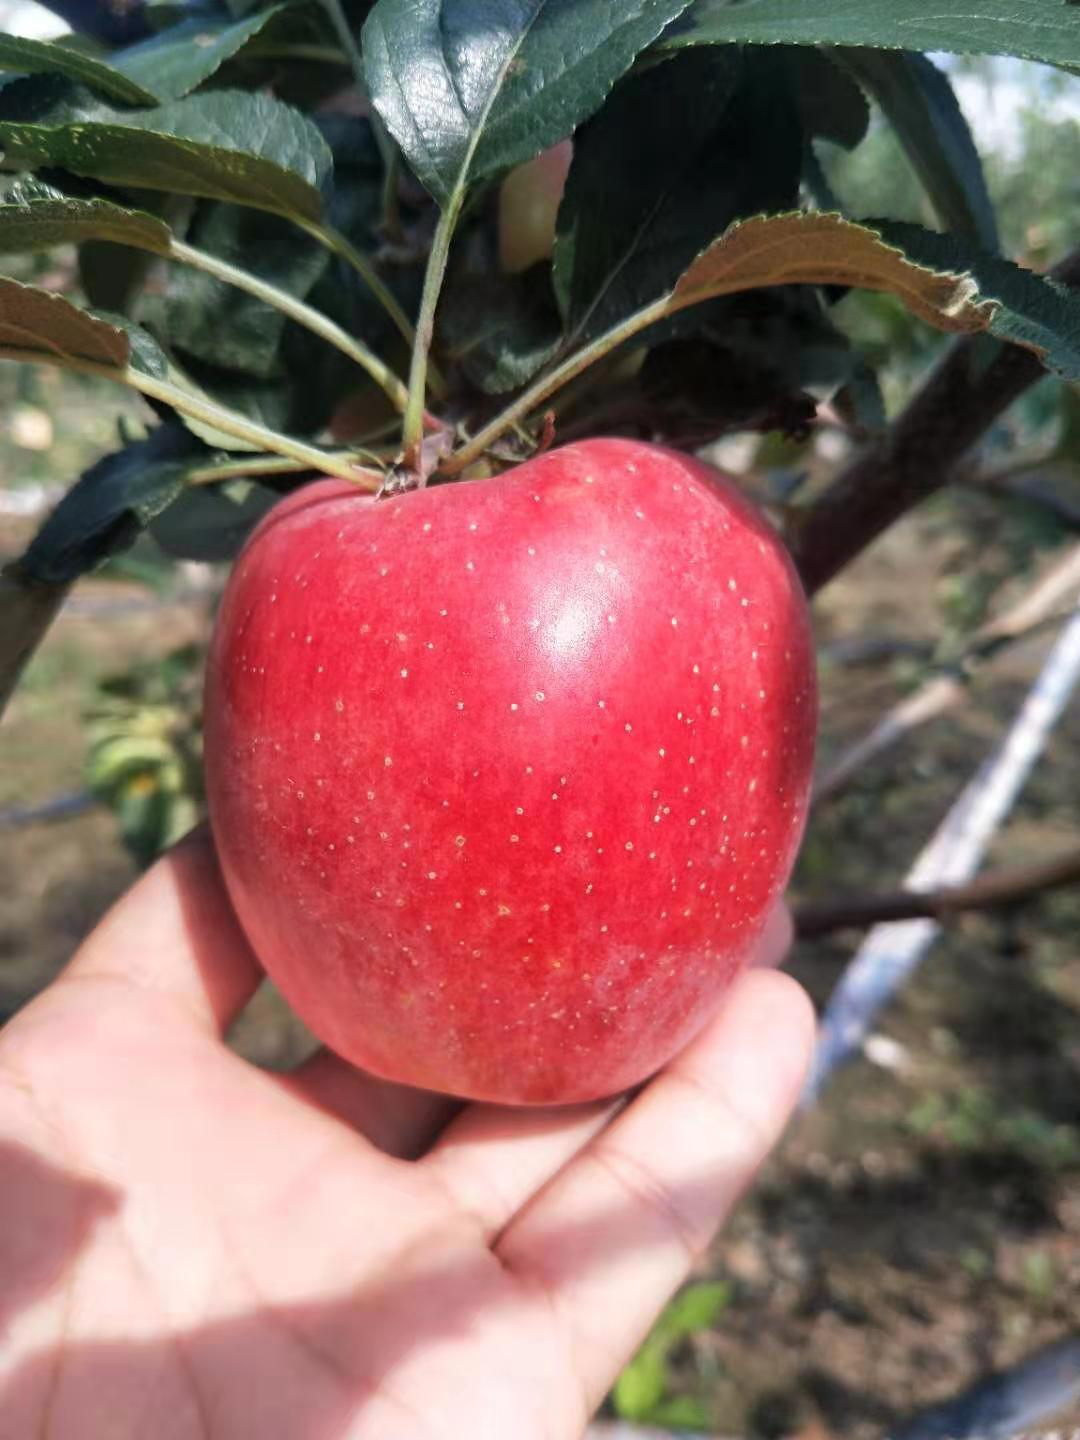apple: (201, 421, 815, 1102)
